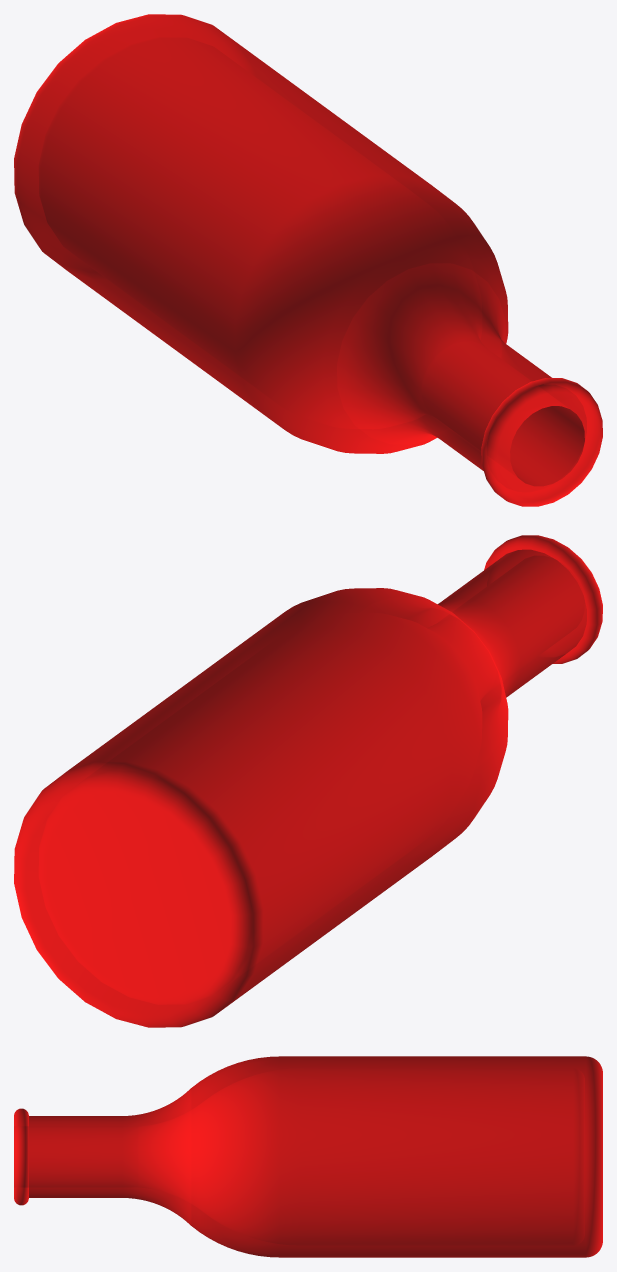
File: model_scale.obj
3 views of the same model, one above another, from view 1: azimuth 30°, elevation 25°; view 2: azimuth 150°, elevation 25°; view 3: azimuth 270°, elevation 25° (orthographic). The views are drawn at different scales.
Visible parts, largest first — view 1: mesh1_mesh1-geometry; view 2: mesh1_mesh1-geometry; view 3: mesh1_mesh1-geometry.
Part boxes in pixels (x1,y1,x2,y2): mesh1_mesh1-geometry: (14, 14, 602, 506); mesh1_mesh1-geometry: (14, 535, 602, 1027); mesh1_mesh1-geometry: (14, 1056, 602, 1257).
Bounding box in the file's own units: 0.0929 × 0.0929 × 0.2739.
